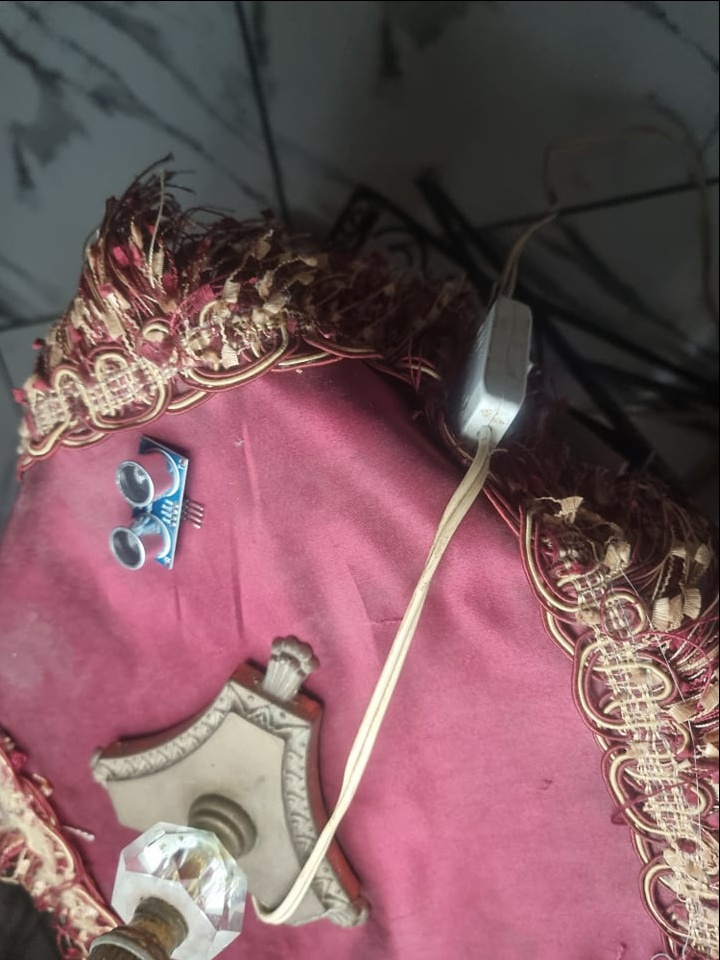SENSOR: (112, 428, 189, 572)
